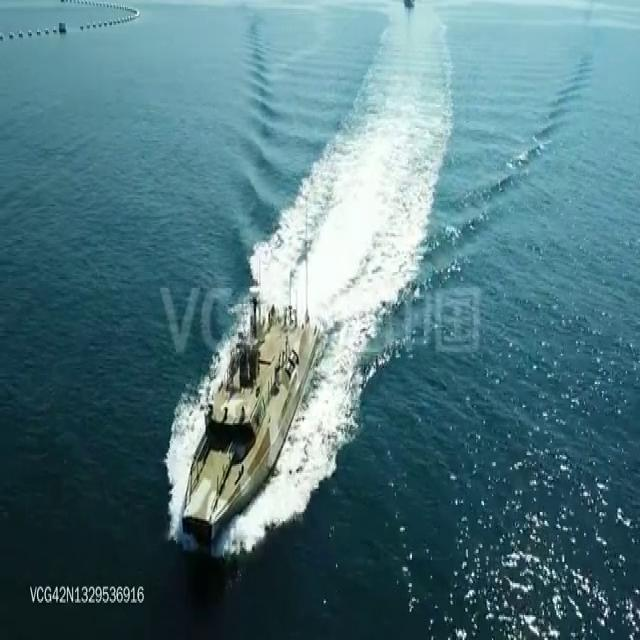houseboat: (172, 265, 325, 537)
